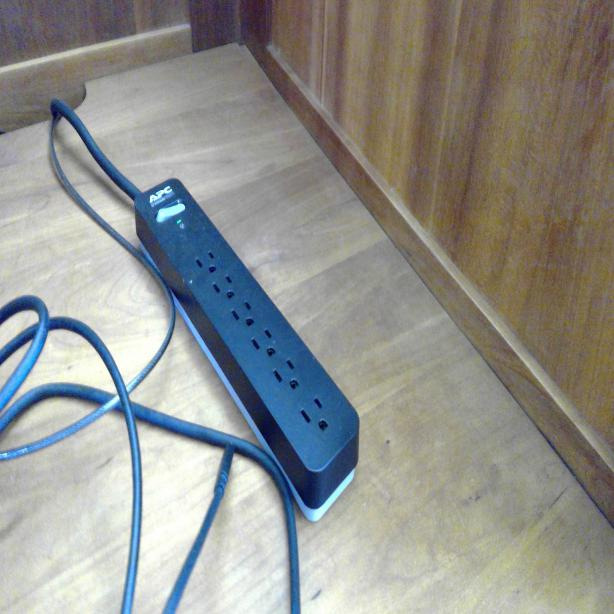typeb: (299, 396, 330, 434), (274, 359, 300, 394), (252, 328, 278, 362), (192, 246, 219, 278), (212, 272, 238, 304), (231, 300, 256, 330)
